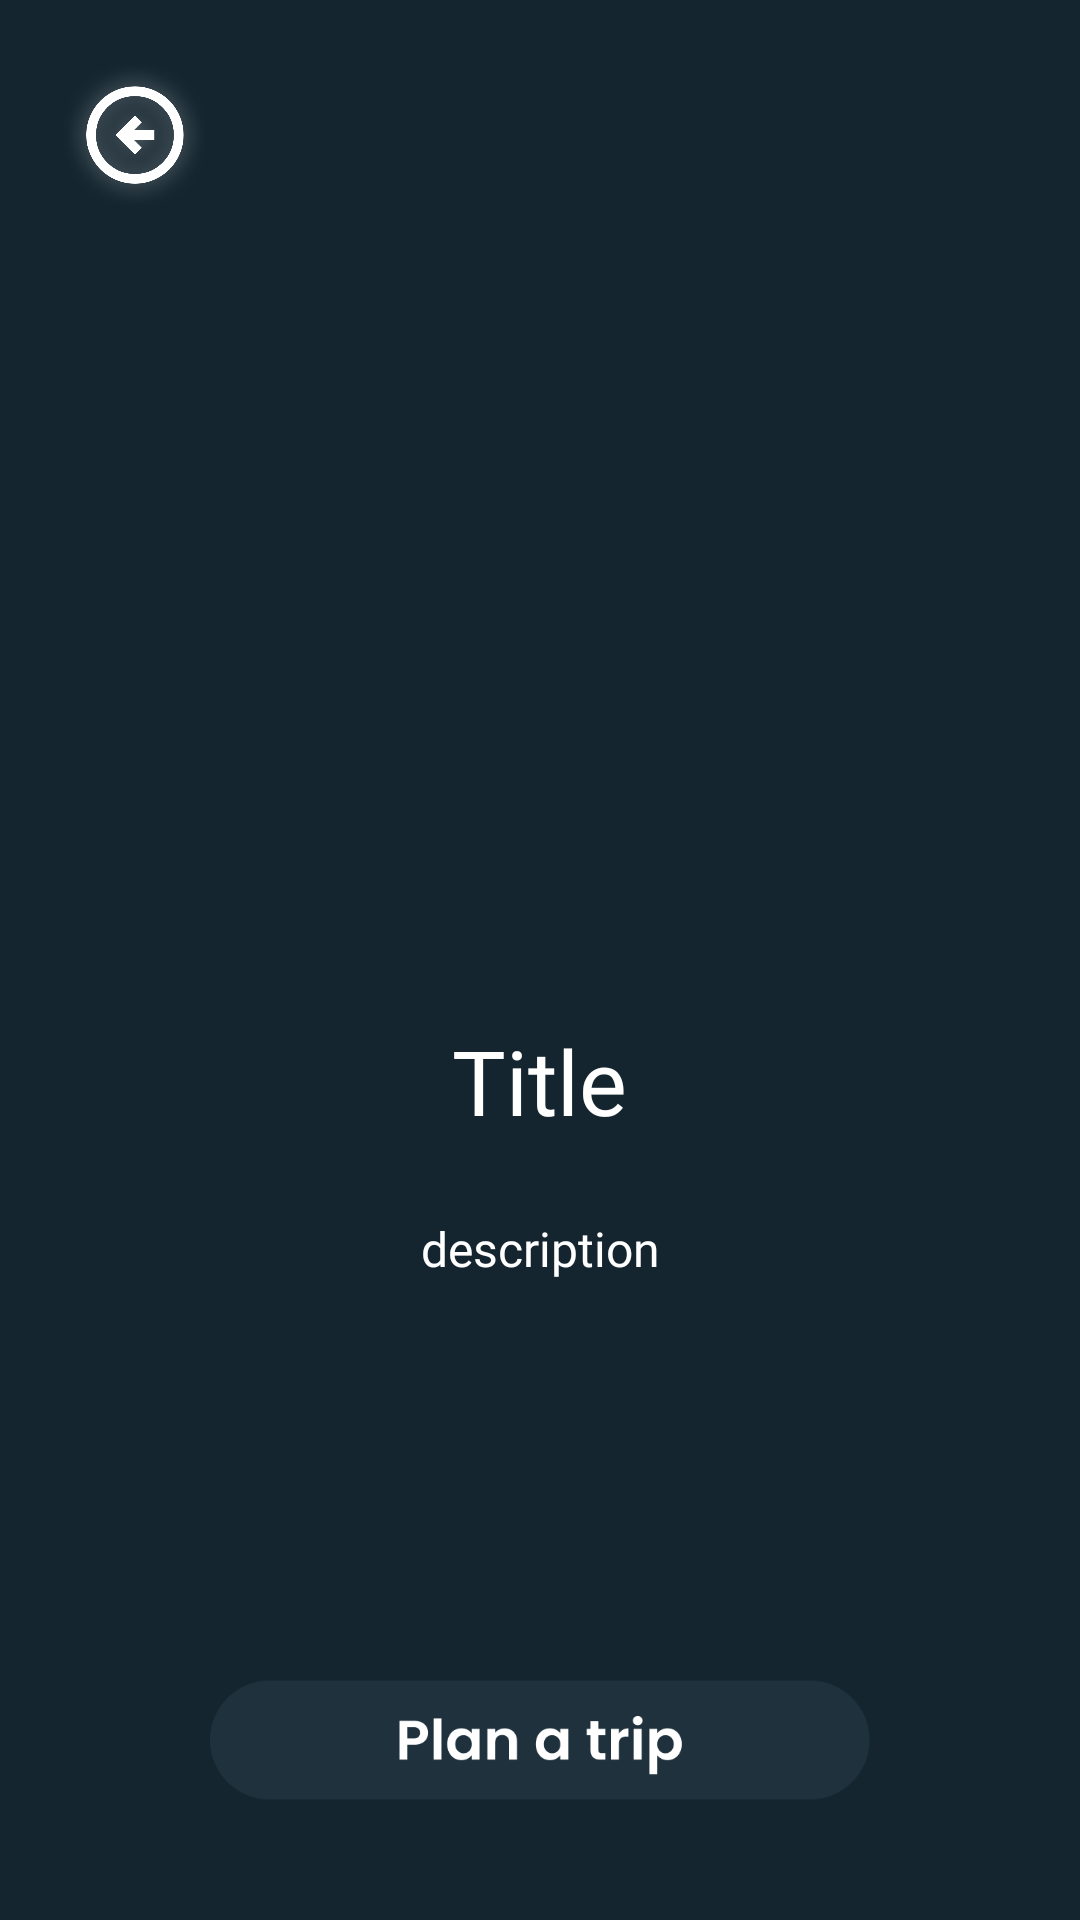

Icon click points for this 1080*1920 phone screenshot, format (x=x, y=y):
backarrow: (x=135, y=135)
